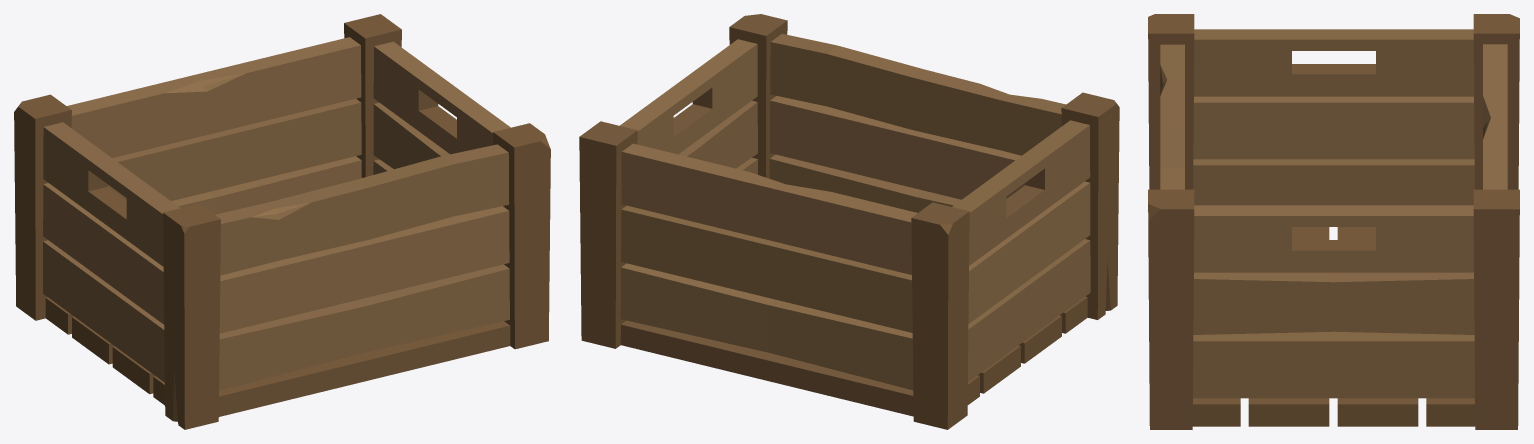
The model's file is Mesh_Props_Box_03.obj.
The picture shows the model from 3 angles, left to right: view 1: azimuth 30°, elevation 25°; view 2: azimuth 150°, elevation 25°; view 3: azimuth 270°, elevation 25°; orthographic projection. The views are drawn at different scales.
Parts seen in each view (by area): view 1: Mesh_Props_Box_03_M_LowPolyFarm_MAIN; view 2: Mesh_Props_Box_03_M_LowPolyFarm_MAIN; view 3: Mesh_Props_Box_03_M_LowPolyFarm_MAIN.
Boxes of the visible parts, <box> form: Mesh_Props_Box_03_M_LowPolyFarm_MAIN: <box>14,14,550,429</box>; Mesh_Props_Box_03_M_LowPolyFarm_MAIN: <box>579,14,1119,429</box>; Mesh_Props_Box_03_M_LowPolyFarm_MAIN: <box>1148,14,1519,429</box>.
Size of the model in its own units: 0.666 by 0.3518 by 0.5355.
